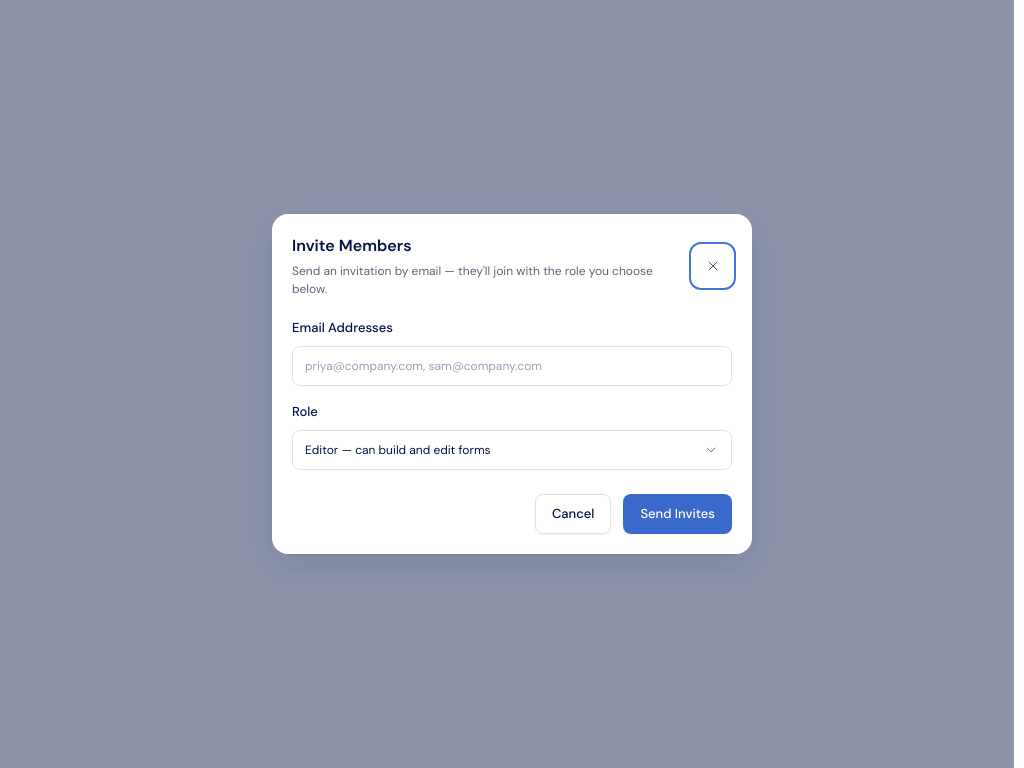
Test: InviteMembersModal › shows a failed send inline too, and clears it once the person edits the field
The width and height of the screenshot is (1024, 768).
Step 1. Type "new@x.com" into the field labelled "Email Addresses" → (512,366), box [292, 346, 732, 386]
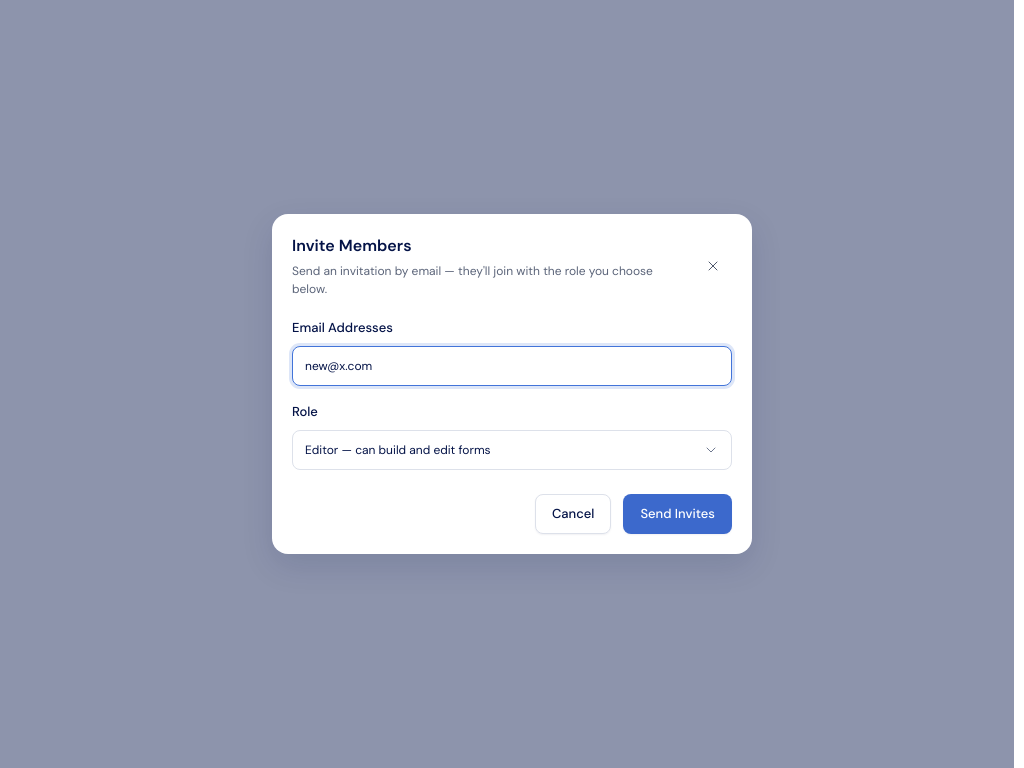
Step 2. Click the button "Send Invites" → (678,514), box [623, 494, 732, 534]
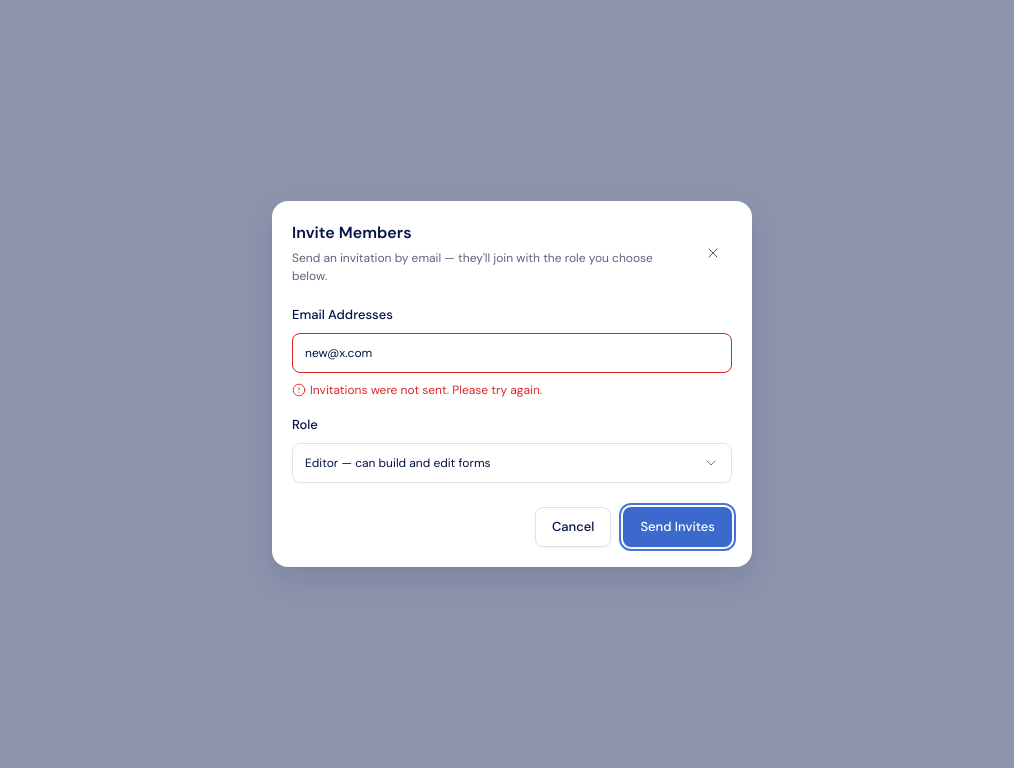
Result: the text "Invitations were not sent. Please try again." is shown at [292, 382, 542, 398]
Step 3. Type "x" into the field labelled "Email Addresses" → (512,353), box [292, 333, 732, 373]
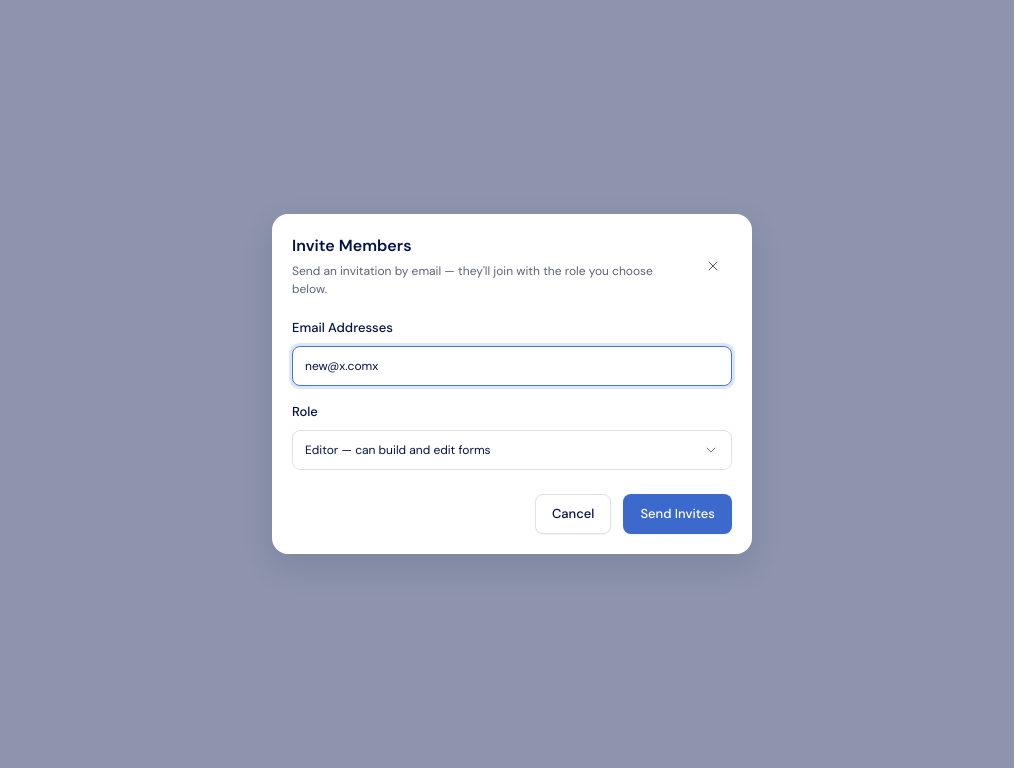
Result: the text "Invitations were not sent" is gone
